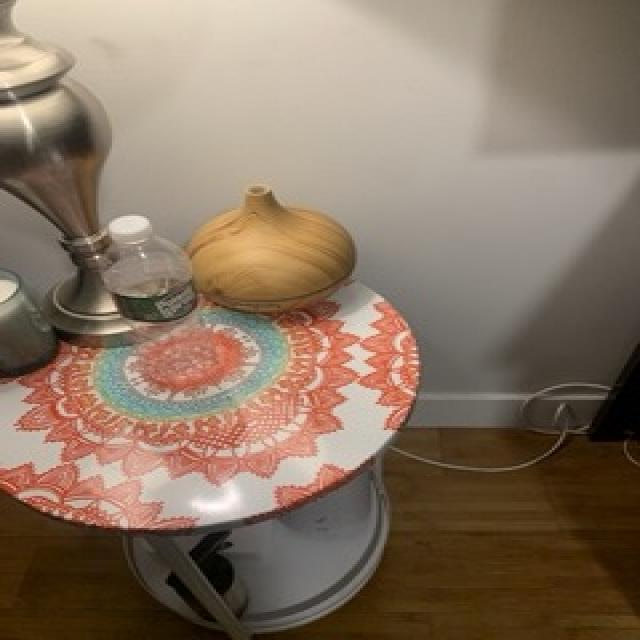water_bottle: (99, 211, 225, 385)
